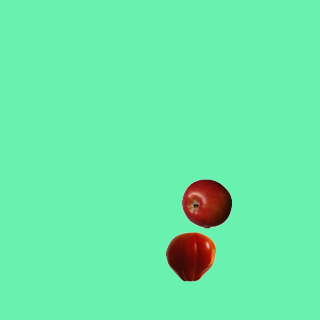Apple Braeburn: (181, 178, 231, 228)
Tomato 1: (165, 231, 215, 281)
